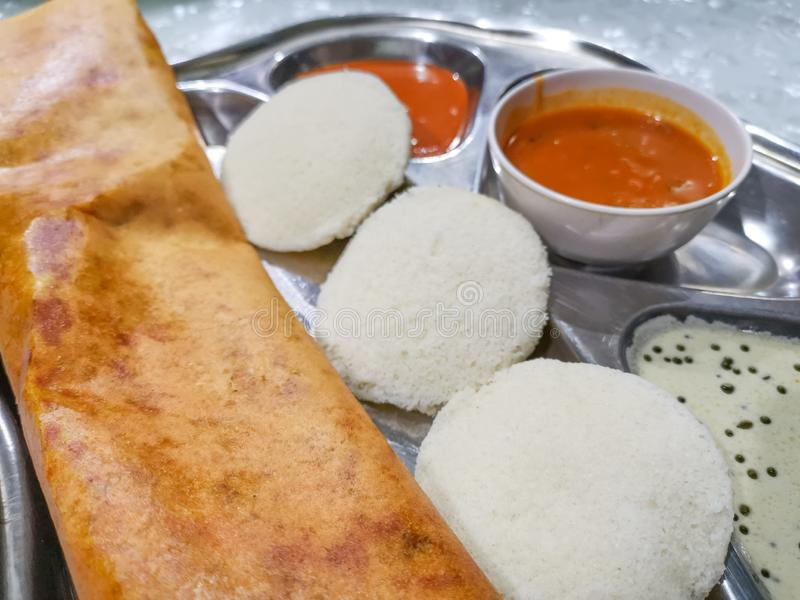dosa: (2, 2, 506, 600)
